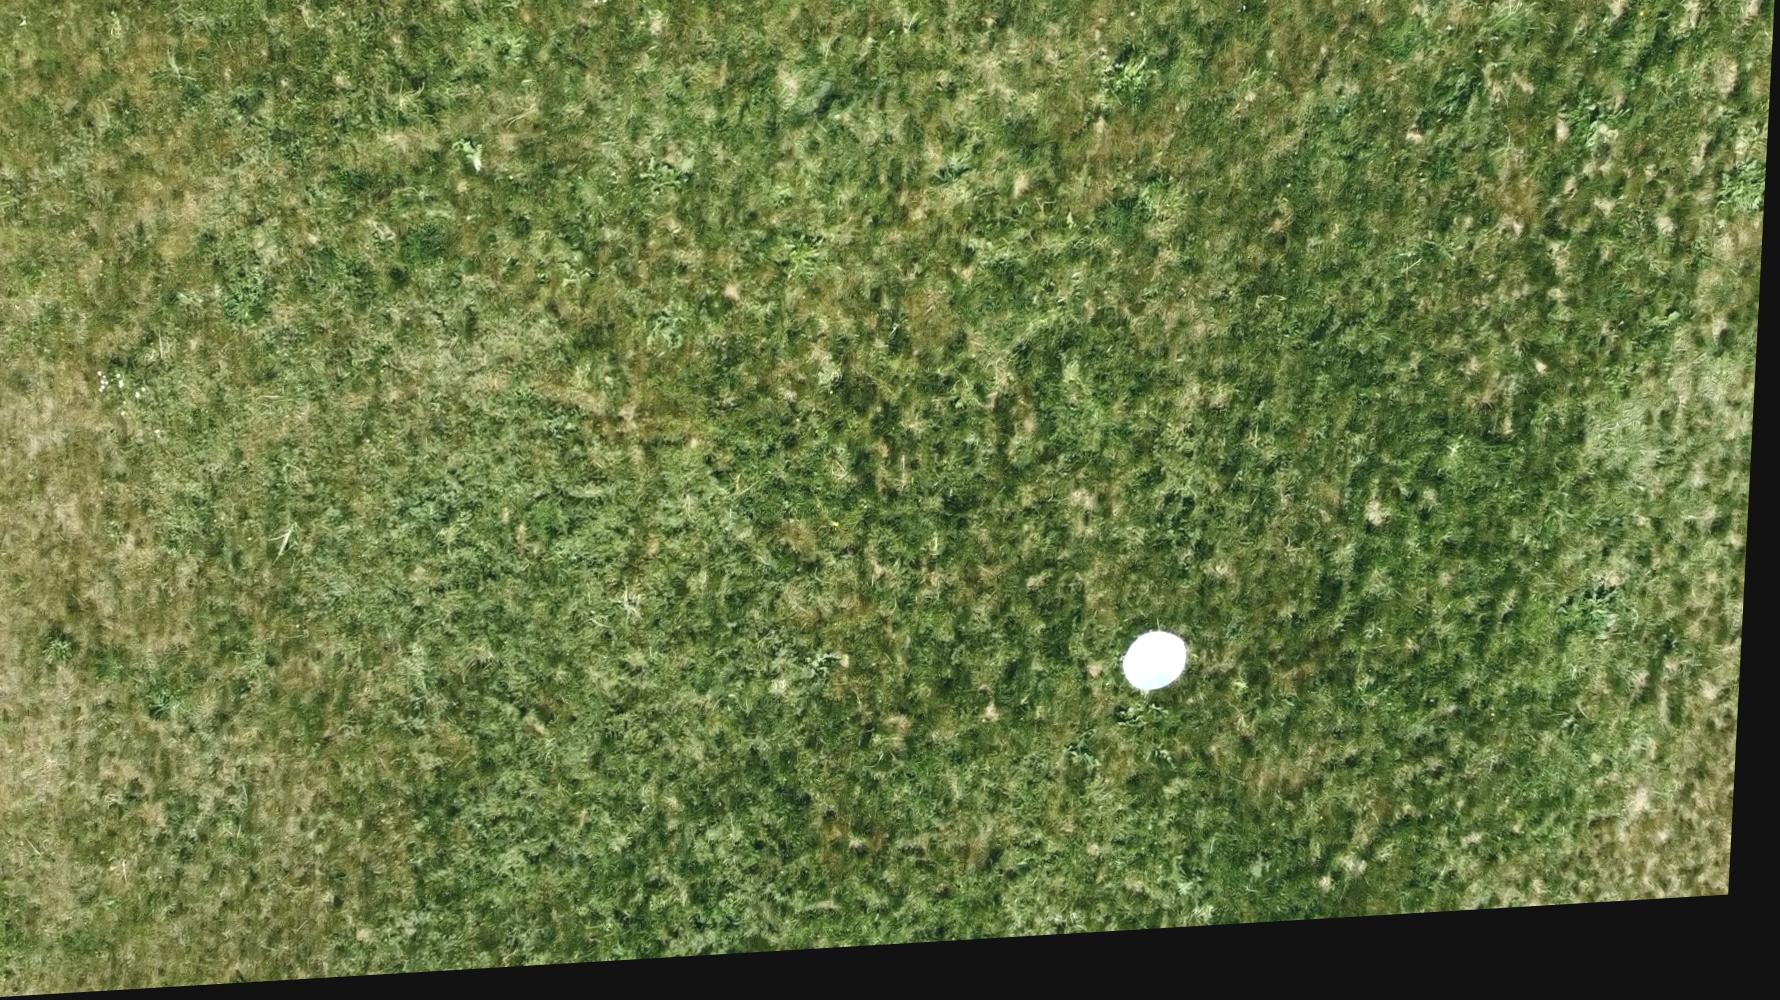Blue: (1127, 643, 1198, 709)
